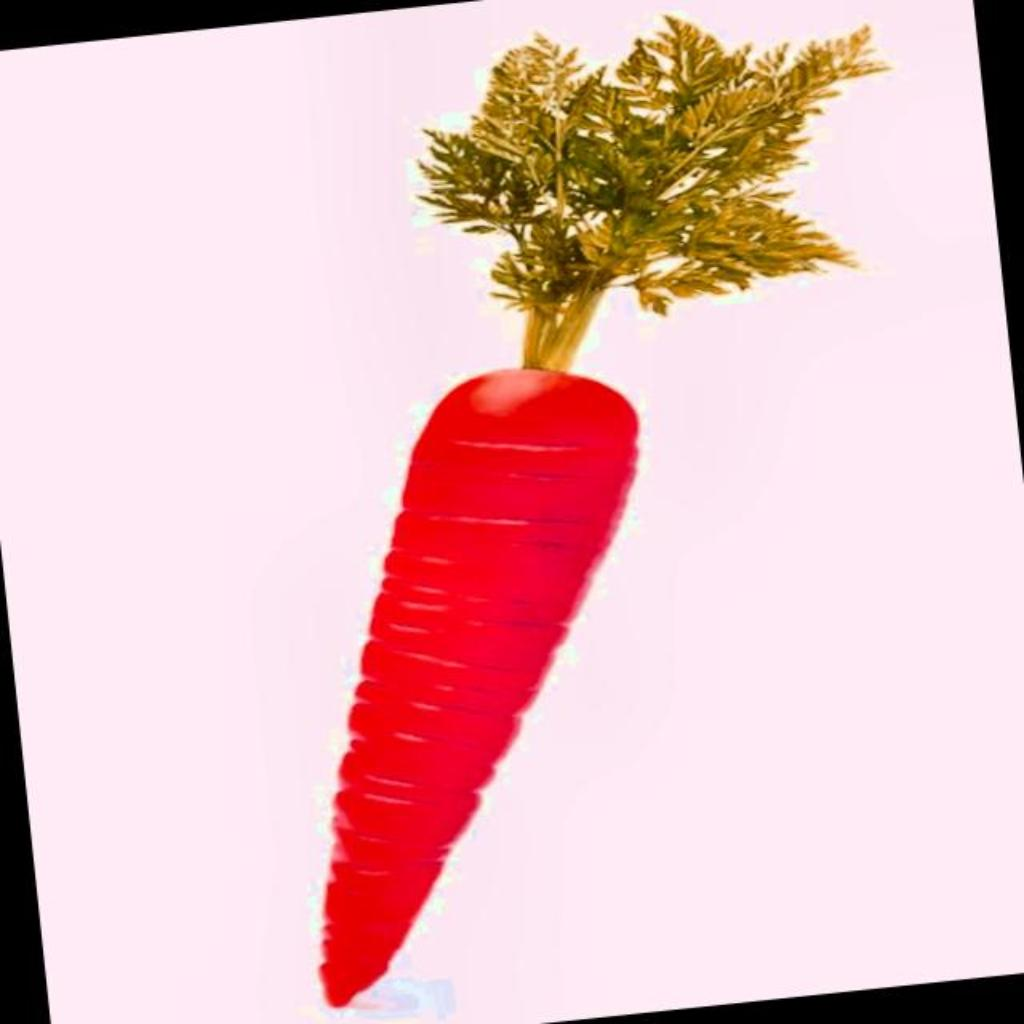carrot: (320, 16, 884, 1005)
